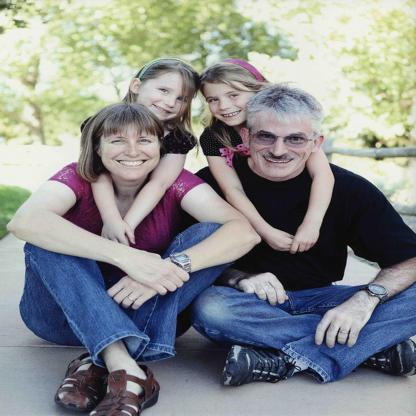face: (251, 110, 315, 180), (101, 122, 160, 181), (203, 76, 257, 127), (145, 71, 189, 124)
